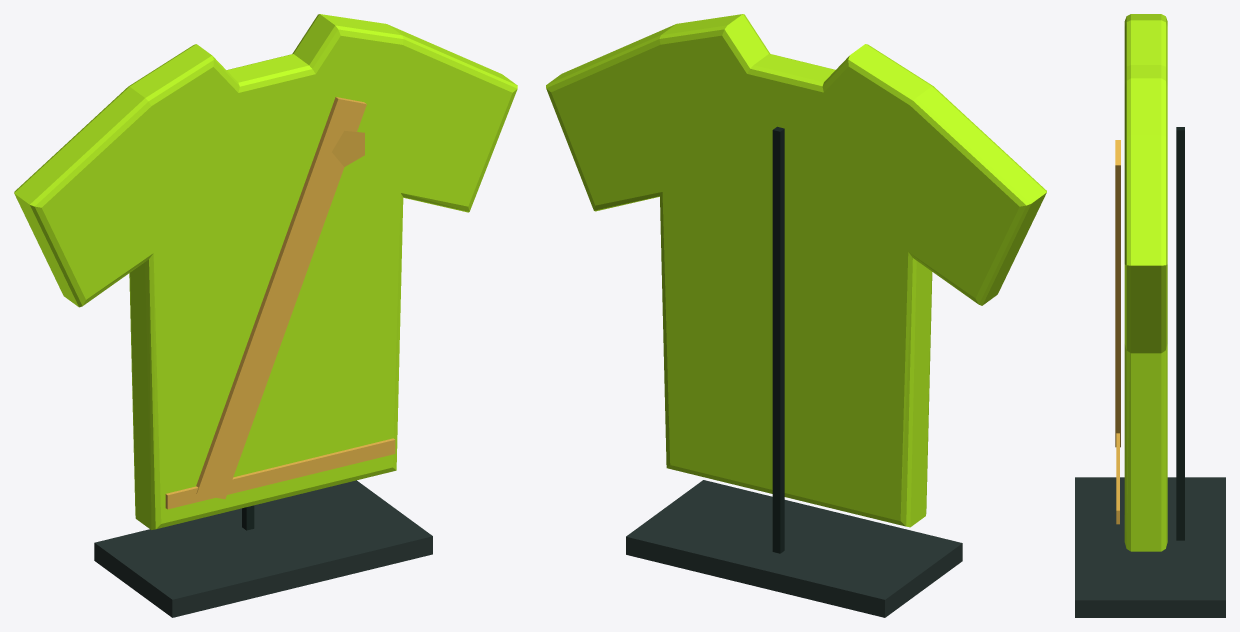
File: kit-sash.glb
The picture shows the model from 3 angles, left to right: view 1: azimuth 30°, elevation 25°; view 2: azimuth 150°, elevation 25°; view 3: azimuth 270°, elevation 25°; orthographic projection. The views are drawn at different scales.
Parts seen in each view (by area): view 1: kit; view 2: kit; view 3: kit.
Part boxes in pixels (x1,y1,x2,y2): kit: (14,14,517,617); kit: (546,14,1046,617); kit: (1075,14,1225,617).
Bounding box in the file's own units: 2.53 × 2.6 × 0.7.
